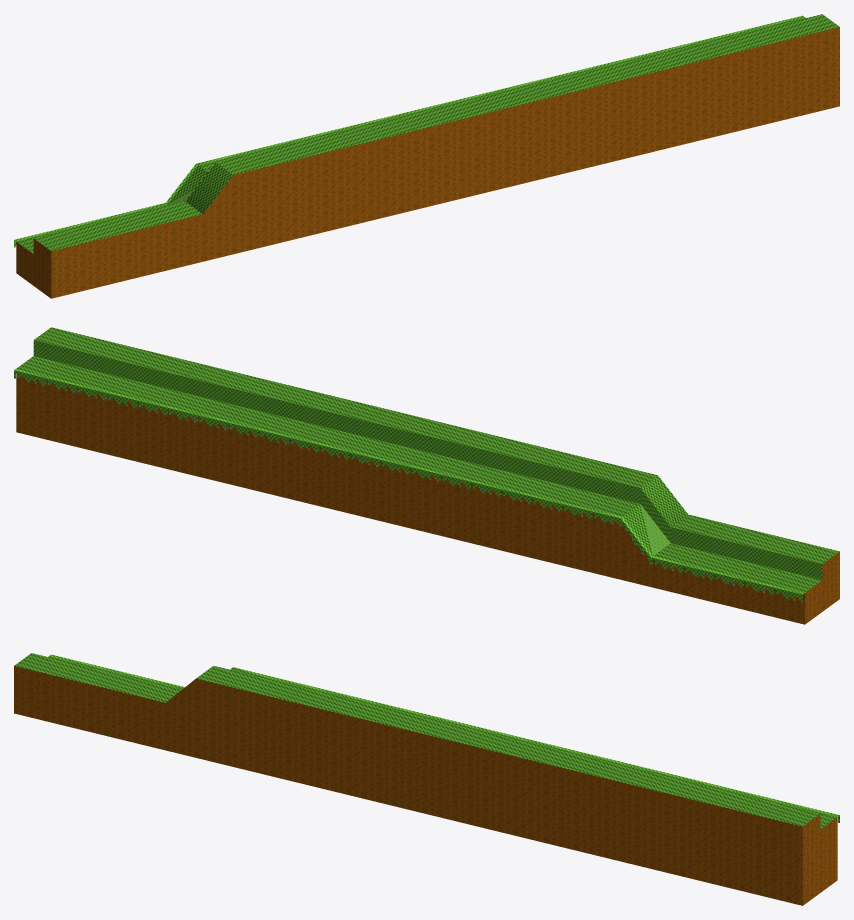
The model's file is delettestageb.fbx.
The picture shows the model from 3 angles, top to bottom: view 1: azimuth 30°, elevation 25°; view 2: azimuth 150°, elevation 25°; view 3: azimuth 330°, elevation 25°; orthographic projection.
Visible parts, largest first — view 1: polymsh134; view 2: polymsh134; view 3: polymsh134.
Boxes of the visible parts, left/top/right/bottom form: polymsh134: left=14, top=14, right=839, bottom=298; polymsh134: left=14, top=327, right=839, bottom=624; polymsh134: left=14, top=653, right=839, bottom=905.
Bounding box in the file's own units: 2059 × 198 × 168.
